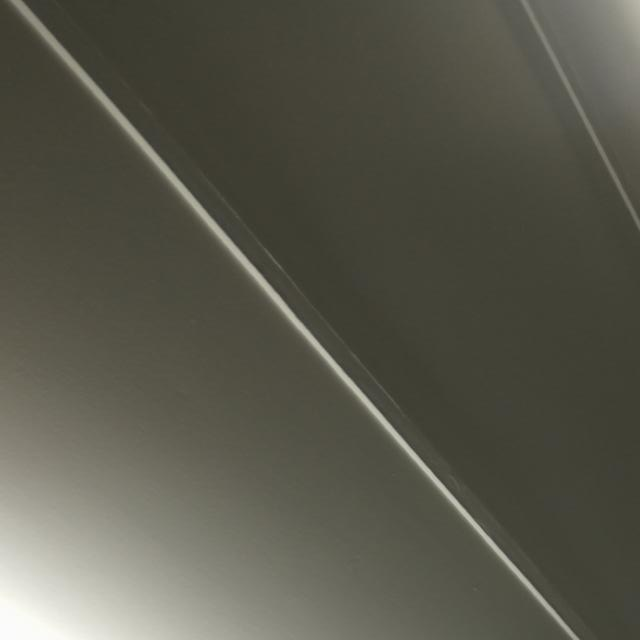fluorescent tube: (0, 609, 548, 640)
